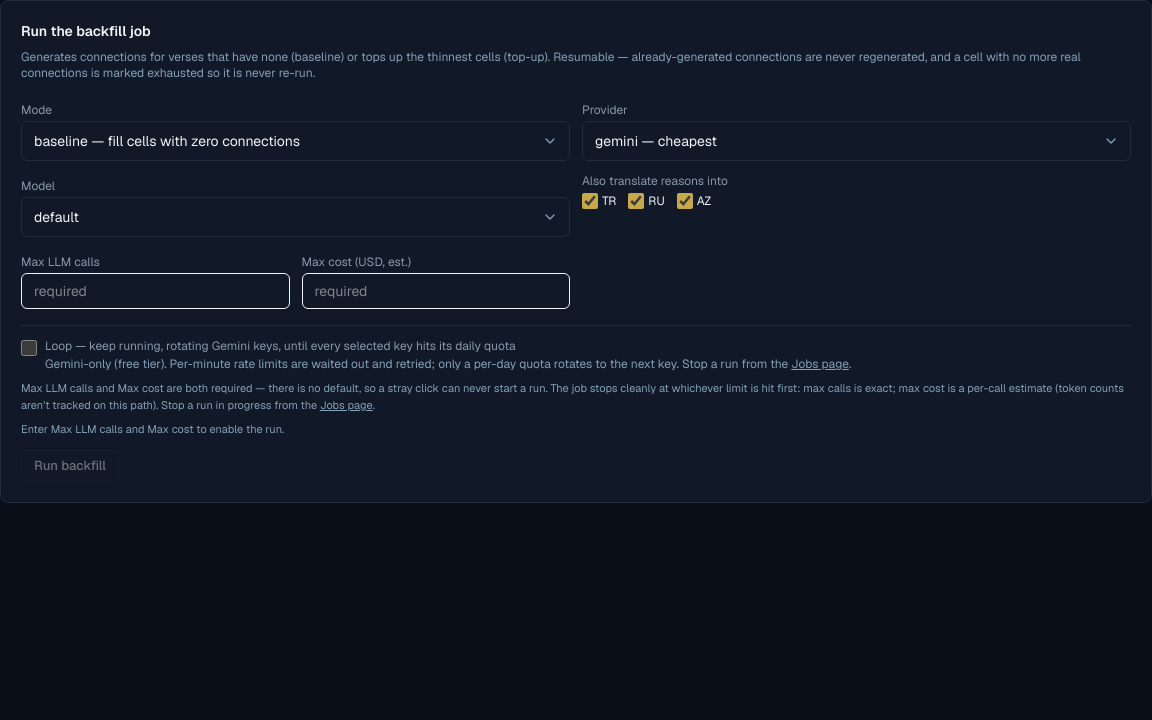
Scenario: BackfillRunner › enables Run once the budgets are filled and then starts the job
Expected: the button "Run backfill" is disabled, [21, 450, 119, 482]
Type "10" into the number field labelled "Max LLM calls" at {"x": 155, "y": 291}, box [21, 273, 290, 309]
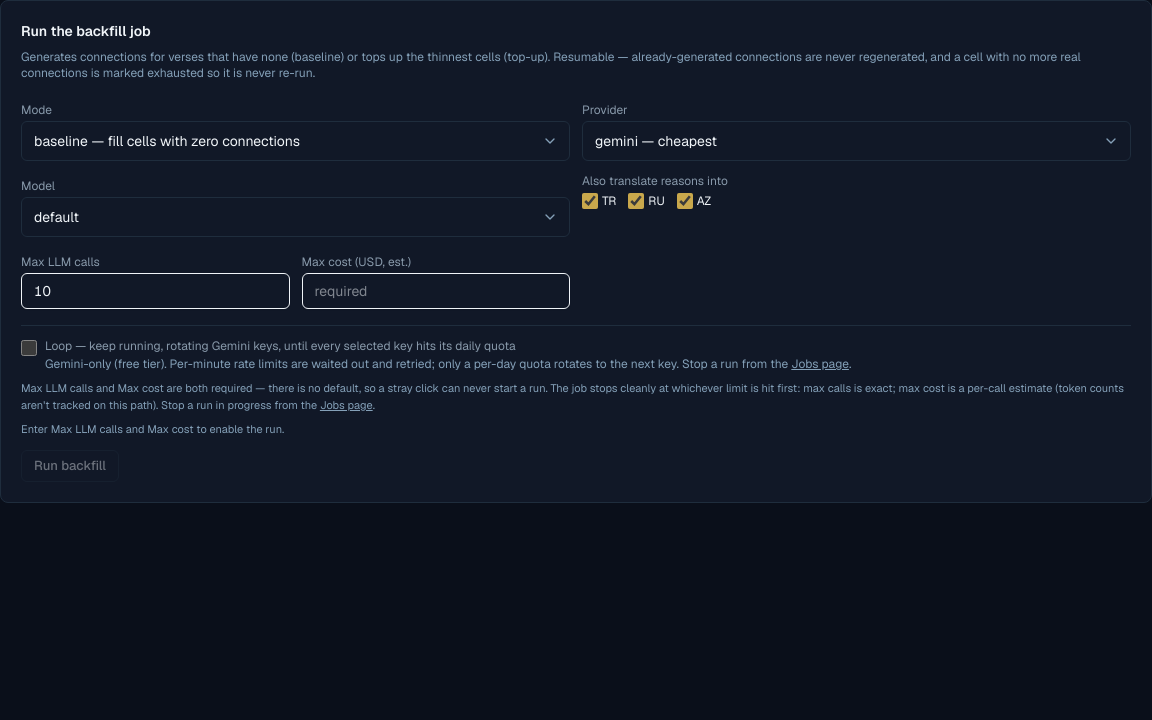
Type "2" into the number field labelled "Max cost (USD, est.)" at {"x": 436, "y": 291}, box [302, 273, 570, 309]
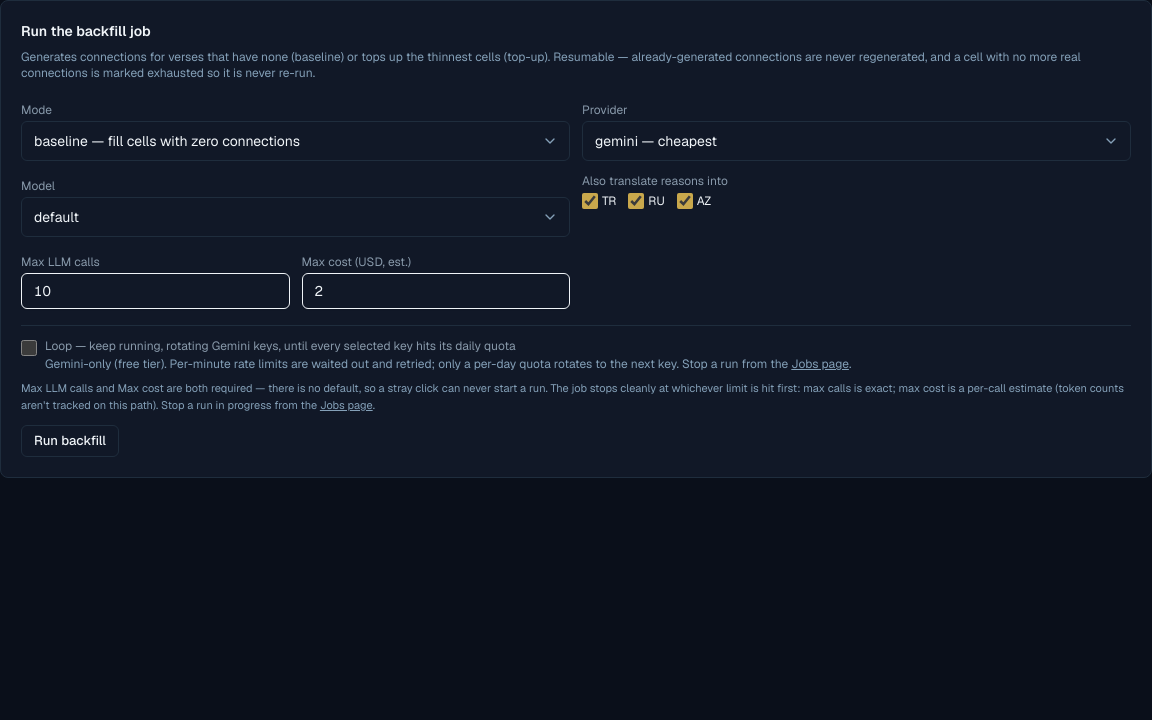
Expected: the button "Run backfill" is enabled
Expected: the text "Enter Max LLM calls and Max cost to enable" is gone
Click the button "Run backfill" at {"x": 70, "y": 441}, box [21, 425, 119, 457]
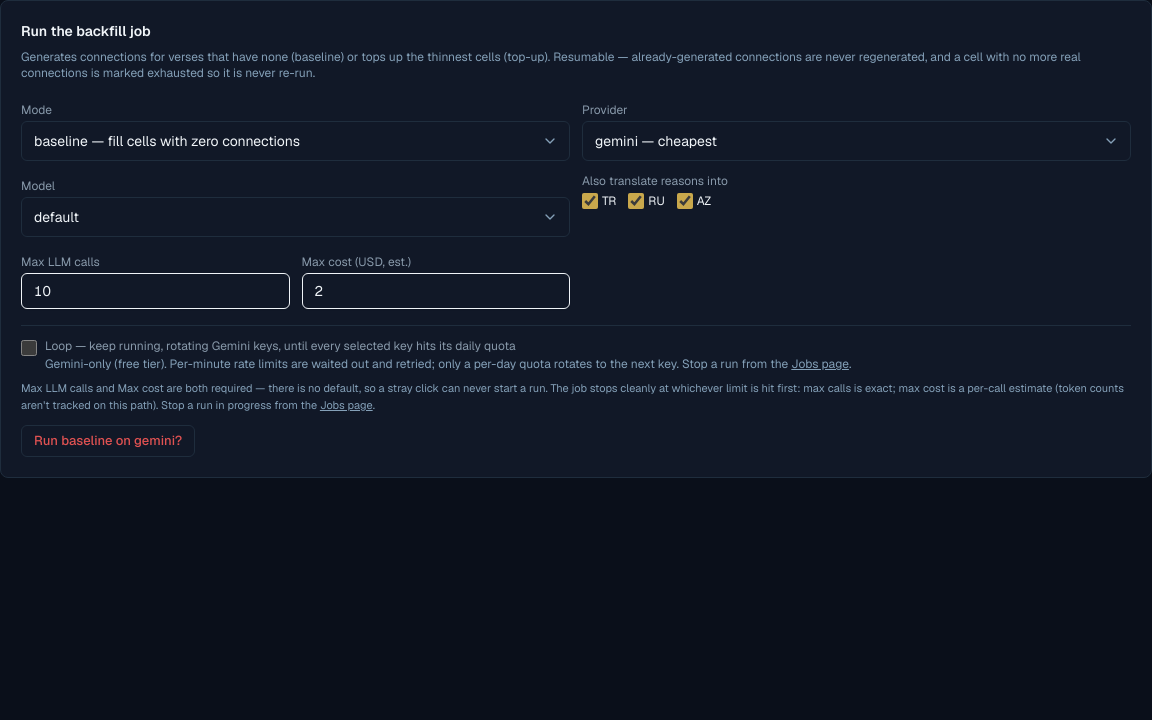
Click the button "Run baseline on gemini?" at {"x": 108, "y": 441}, box [21, 425, 195, 457]
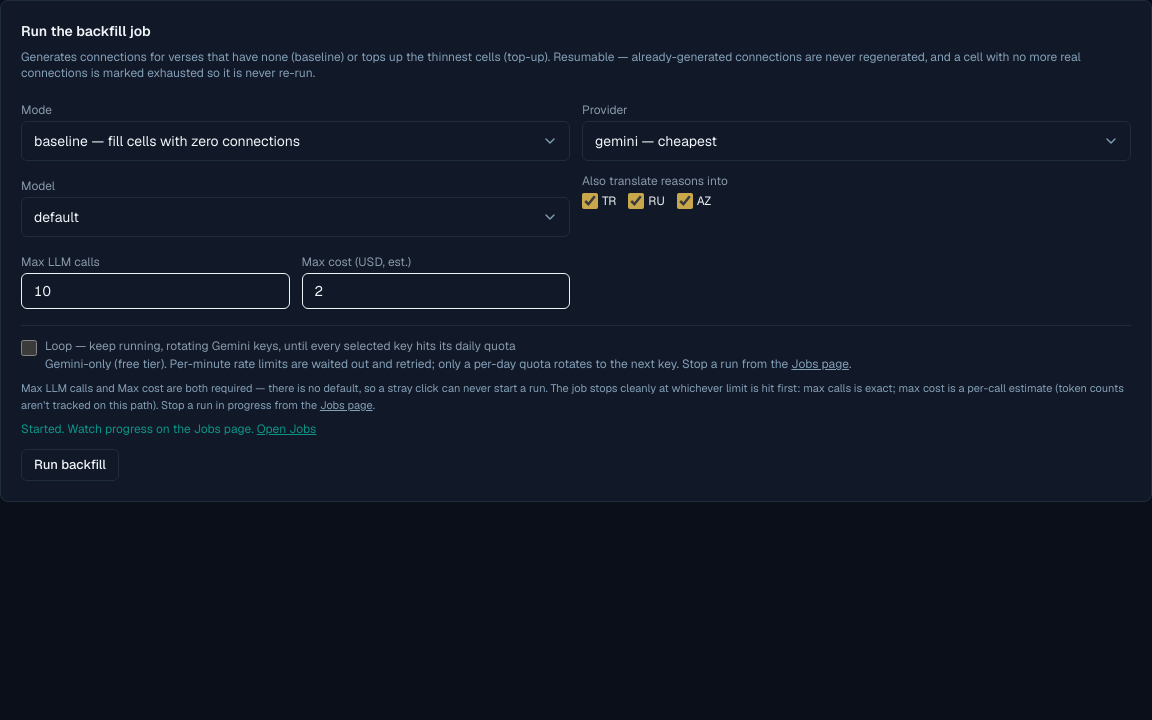
Expected: the text "Started. Watch progress on the Jobs page. Open Jobs" is shown, [21, 421, 316, 437]
